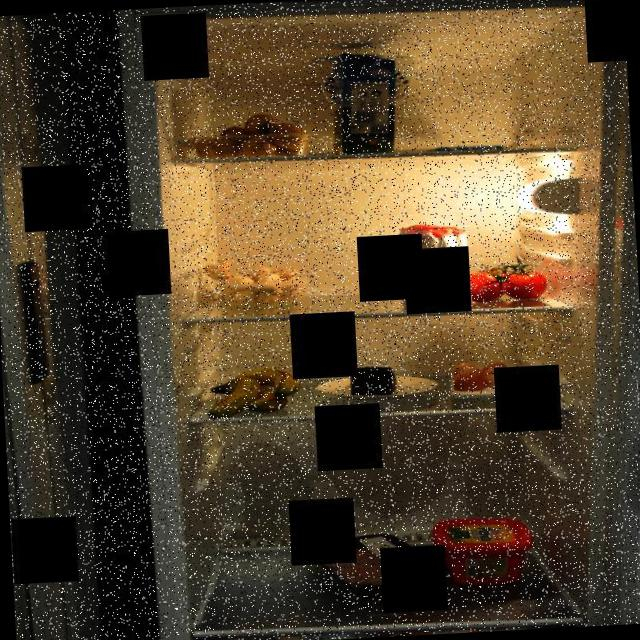Carne pollo: (298, 528, 454, 606)
Champiñones: (202, 252, 311, 312)
Huevos: (449, 358, 516, 396)
Leche: (325, 47, 401, 158)
Mantequilla: (428, 512, 538, 592)
Patata: (187, 108, 312, 162)
Plátano: (200, 363, 304, 422)
Queso: (348, 363, 398, 398)
Tomate: (462, 243, 548, 306)
